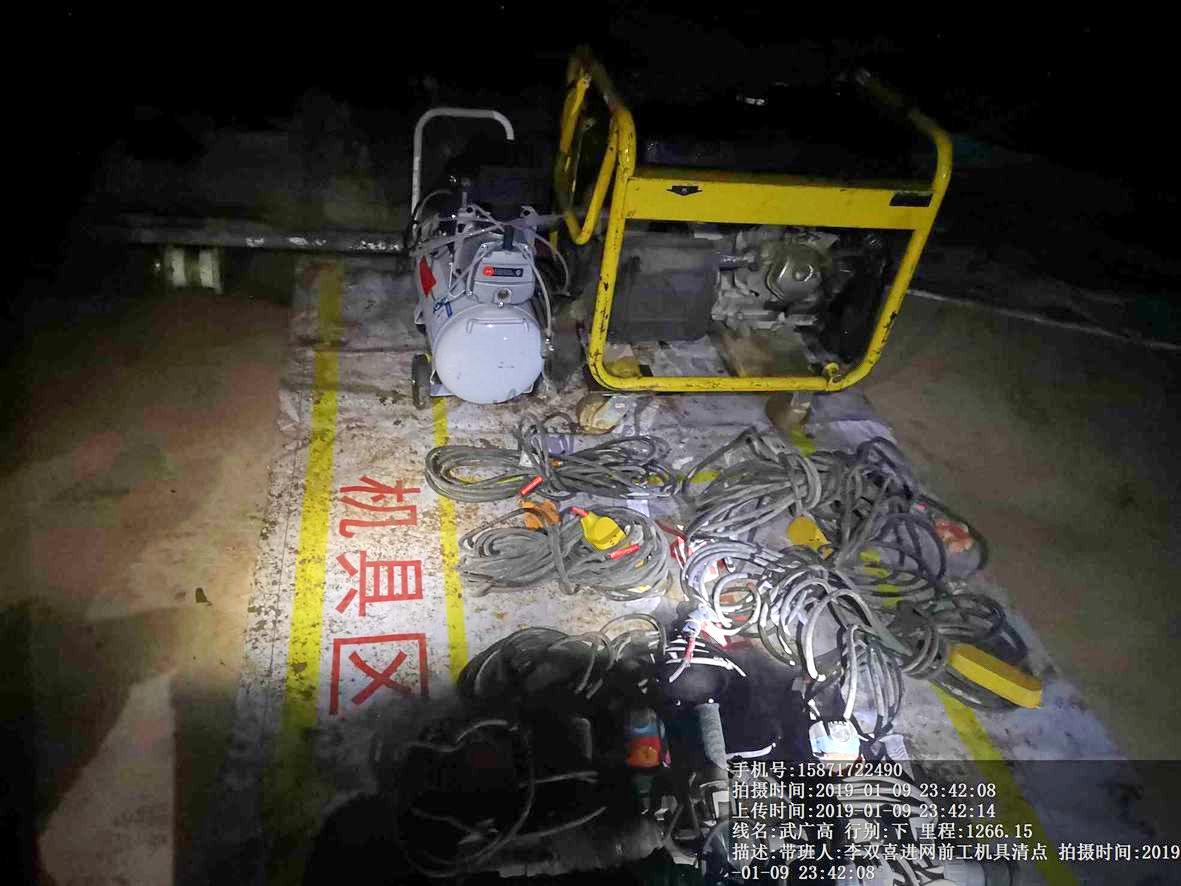DJ: (554, 57, 944, 401)
DX: (428, 407, 675, 506), (441, 501, 669, 608)
